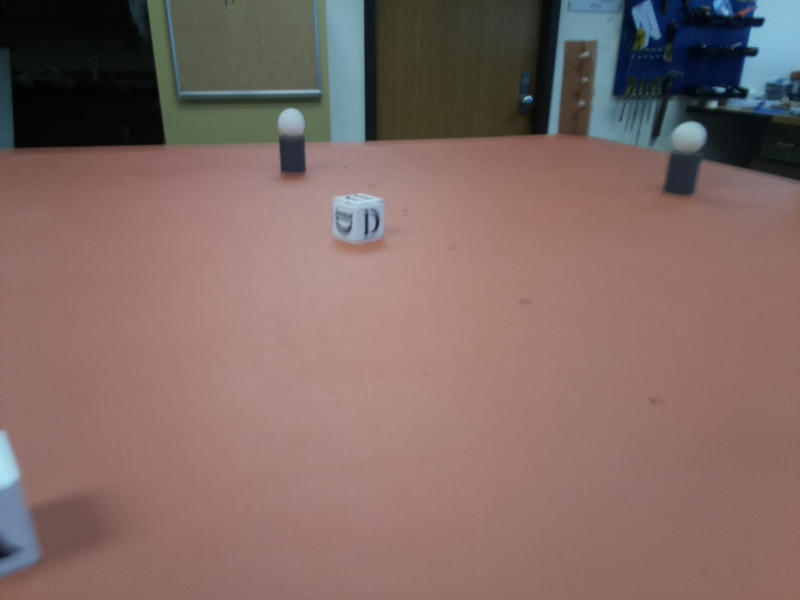blockD: (329, 189, 386, 252)
corner: (562, 40, 601, 140)
obstacle: (660, 122, 714, 202), (277, 107, 311, 180)
